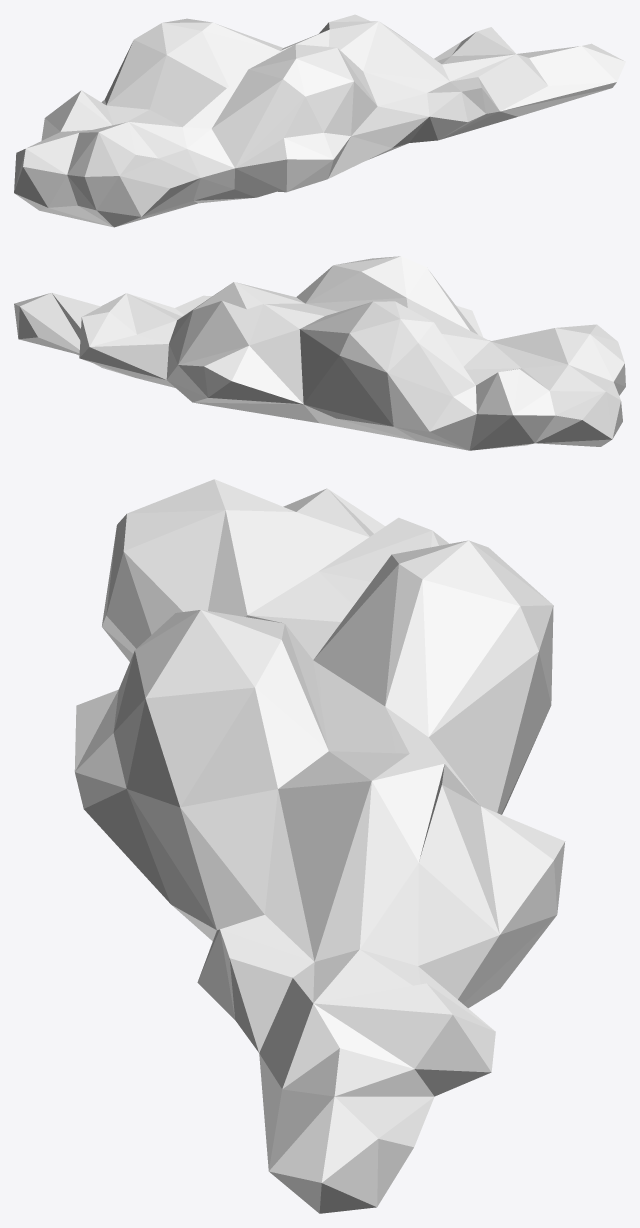
File: city_SM_Env_Cloud_02.gltf
3 views of the same model, one above another, from view 1: azimuth 30°, elevation 25°; view 2: azimuth 150°, elevation 25°; view 3: azimuth 270°, elevation 25° (orthographic). The views are drawn at different scales.
Parts seen in each view (by area): view 1: SM_Env_Cloud_02; view 2: SM_Env_Cloud_02; view 3: SM_Env_Cloud_02.
Boxes of the visible parts, x1,y1,x2,y2 form: SM_Env_Cloud_02: [14, 14, 625, 227]; SM_Env_Cloud_02: [14, 256, 625, 450]; SM_Env_Cloud_02: [74, 479, 565, 1213].
Bounding box in the file's own units: 7.29 × 1.71 × 2.57.
Materials: 1 (1 with a texture image).
